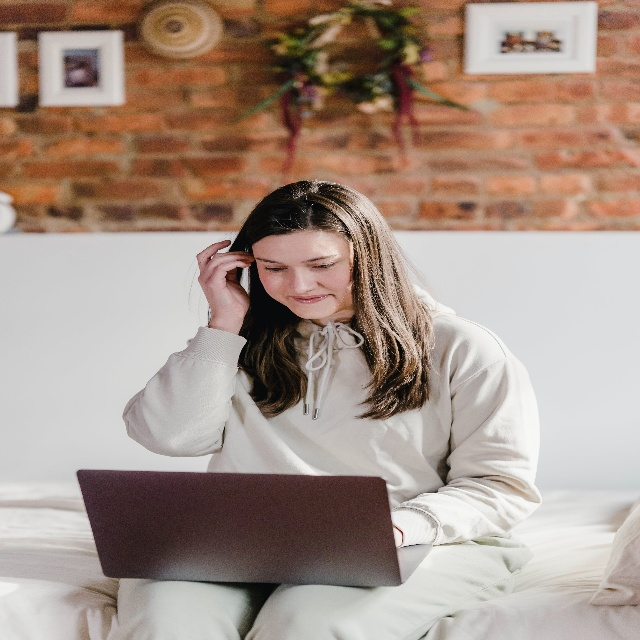Sin_guantes: (196, 241, 251, 325)
